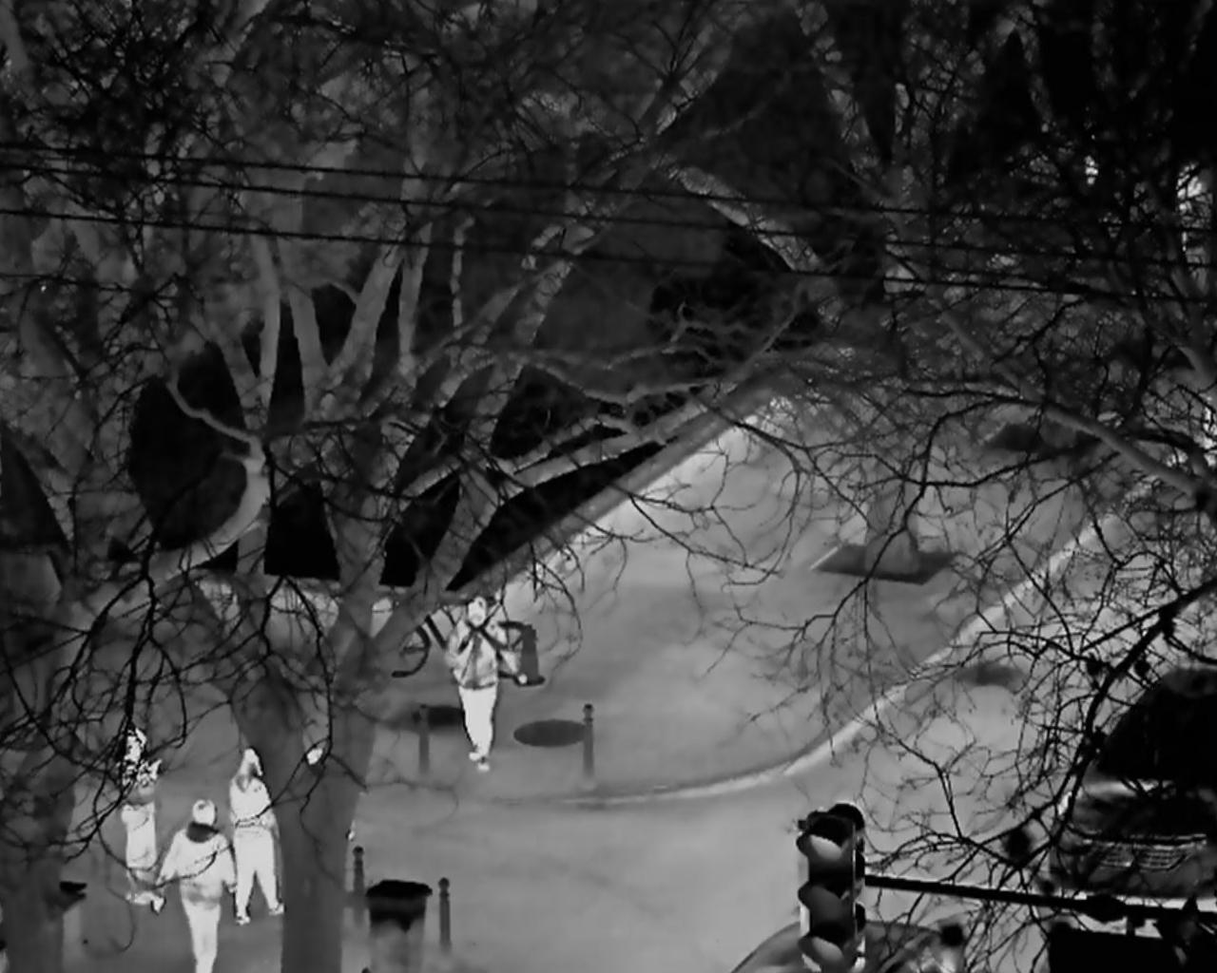person: (156, 795, 235, 973), (445, 593, 515, 775), (226, 749, 283, 925), (116, 723, 163, 908)
